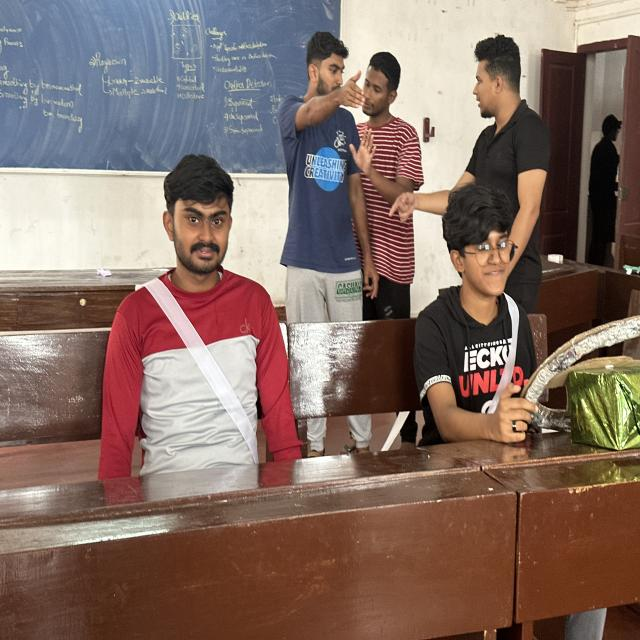seatbelt: (126, 274, 269, 468), (422, 293, 539, 430)
